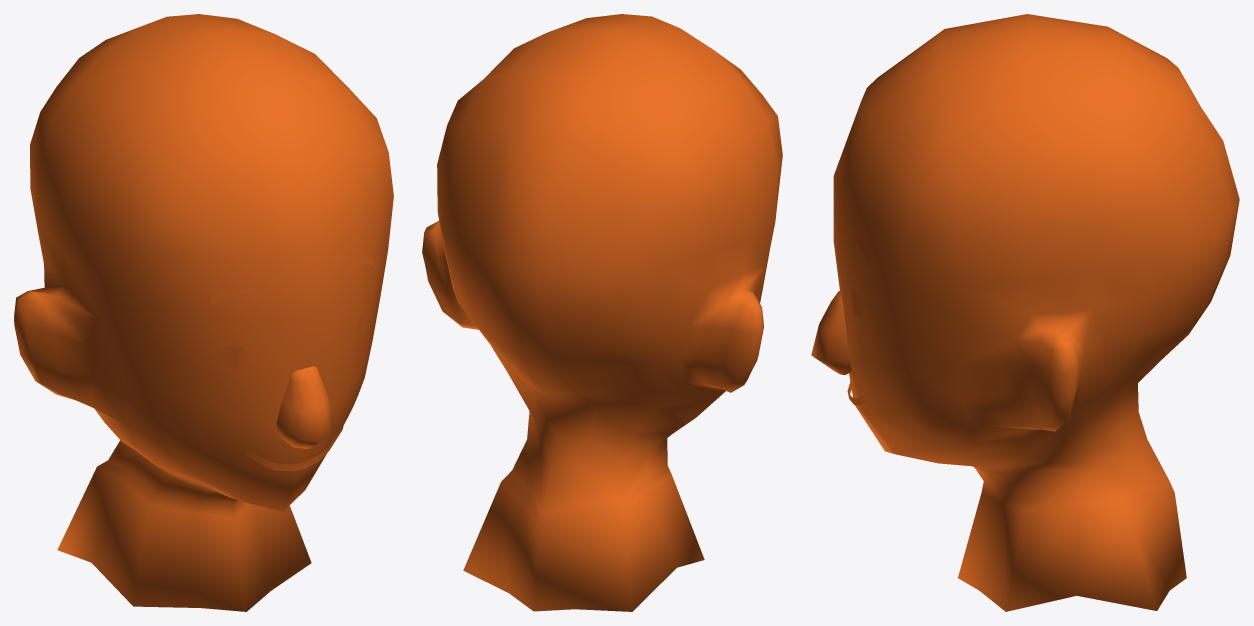
The model's file is Head.fbx.
3 renders of one model, left to right at view 1: azimuth 30°, elevation 25°; view 2: azimuth 150°, elevation 25°; view 3: azimuth 270°, elevation 25°, orthographic. The views are drawn at different scales.
Visible parts, largest first — view 1: Head; view 2: Head; view 3: Head.
Boxes of the visible parts, left/top/right/bottom form: Head: left=14, top=14, right=393, bottom=611; Head: left=422, top=14, right=782, bottom=611; Head: left=811, top=14, right=1239, bottom=611.
Size of the model in its own units: 44.5 by 65.48 by 46.35.
